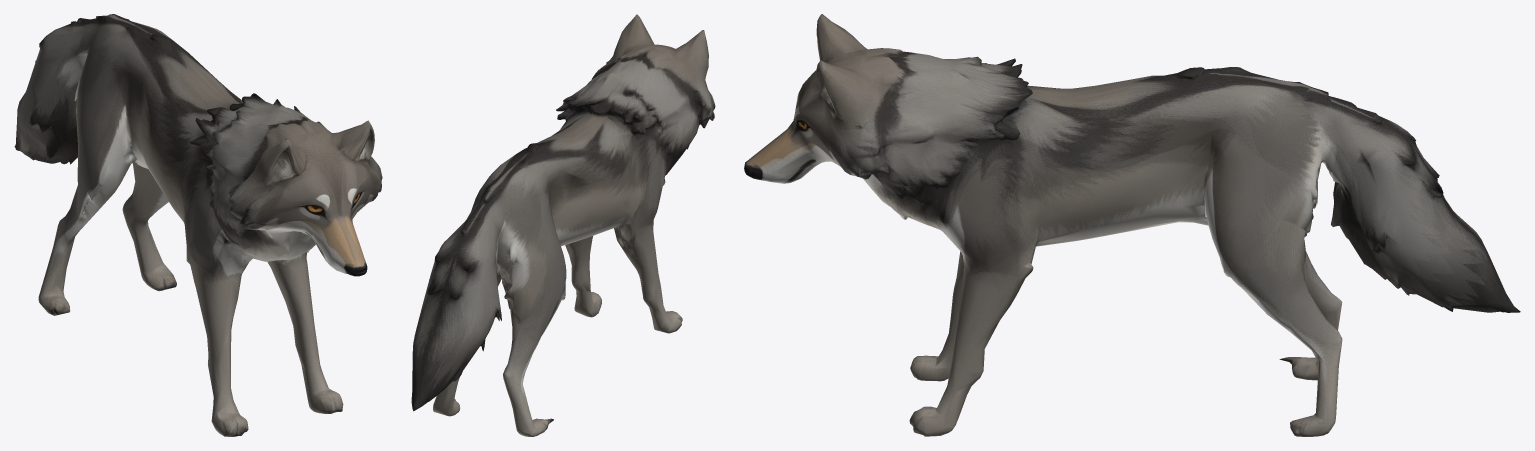
Rendered from wolf.glb.
The picture shows the model from 3 angles, left to right: view 1: azimuth 30°, elevation 25°; view 2: azimuth 150°, elevation 25°; view 3: azimuth 270°, elevation 25°; orthographic projection. The views are drawn at different scales.
Bounding box in the file's own units: 0.486 × 1.05 × 2.
Materials: 1 (1 with a texture image).
